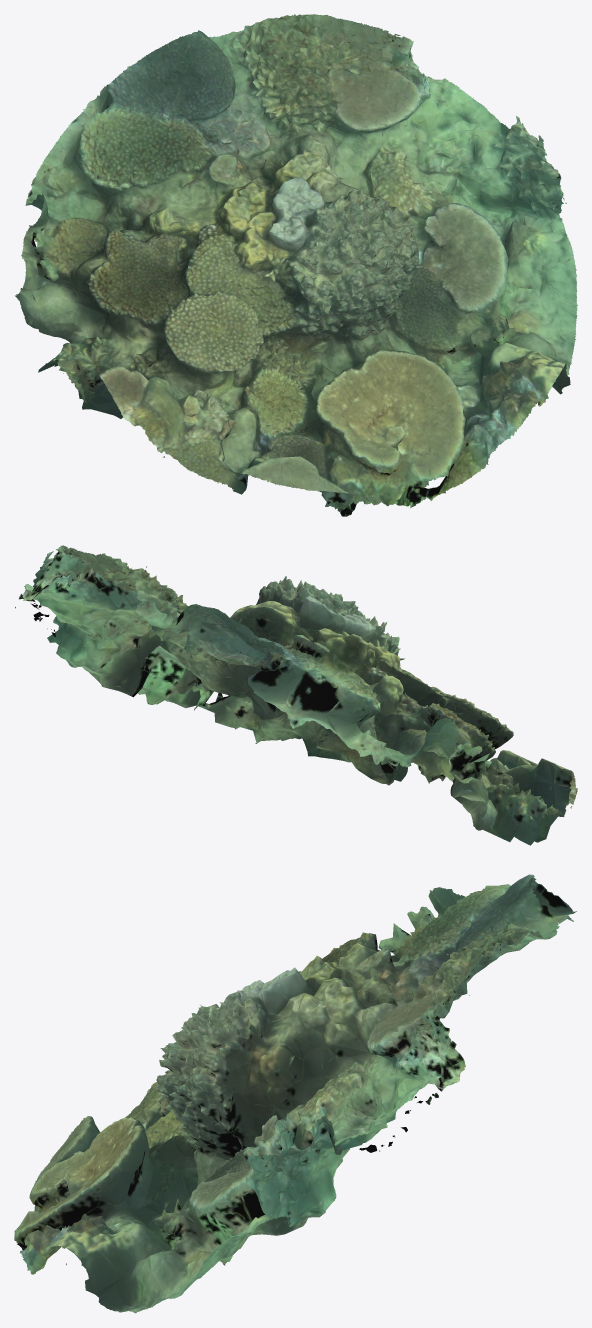
The model's file is whitsundays_soft_coral.glb.
3 views of the same model, one above another, from view 1: azimuth 30°, elevation 25°; view 2: azimuth 150°, elevation 25°; view 3: azimuth 270°, elevation 25° (orthographic). The views are drawn at different scales.
Size of the model in its own units: 16.61 by 10.6 by 14.32.
1 material, 1 textured.
